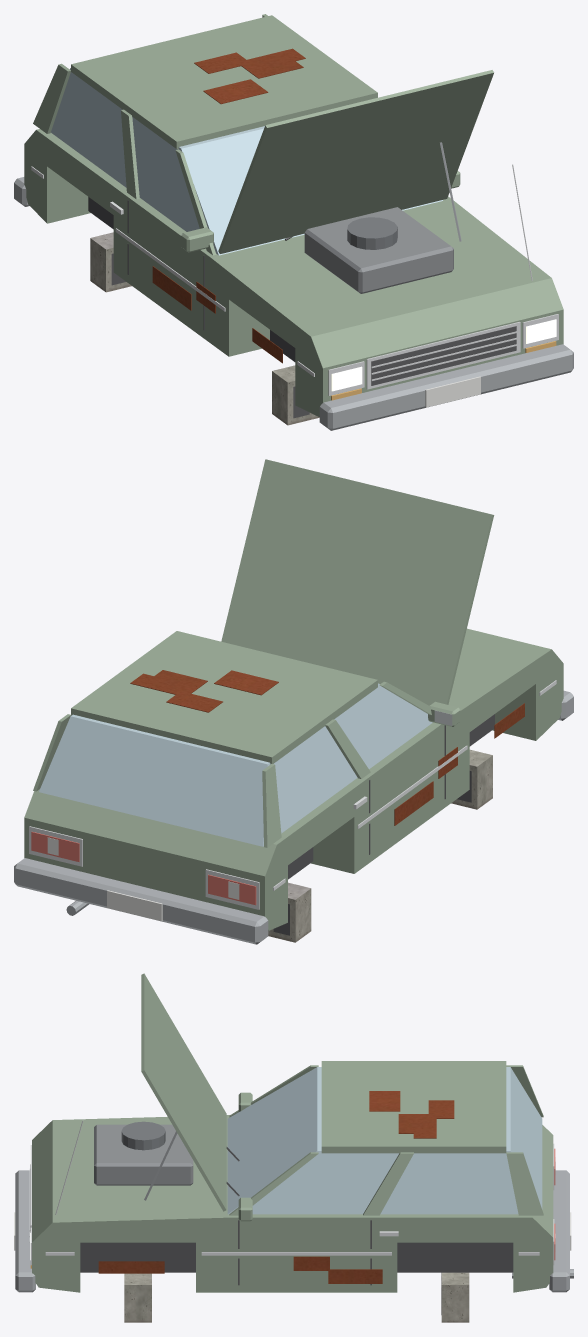
File: junk_hatch_g.glb
3 views of the same model, one above another, from view 1: azimuth 30°, elevation 25°; view 2: azimuth 150°, elevation 25°; view 3: azimuth 270°, elevation 25° (orthographic). The views are drawn at different scales.
Visible parts, largest first — view 1: junk_hatch_g_car_g, junk_hatch_g_glass, junk_hatch_g_steel, junk_hatch_g_engine, junk_hatch_g_chrome, junk_hatch_g_rust, junk_hatch_g_dark, junk_hatch_g_block, junk_hatch_g_steel_d, junk_hatch_g_lamp_glass, junk_hatch_g_paint_w, junk_hatch_g_rubber; view 2: junk_hatch_g_car_g, junk_hatch_g_glass, junk_hatch_g_steel, junk_hatch_g_rust, junk_hatch_g_block, junk_hatch_g_chrome, junk_hatch_g_neon_r, junk_hatch_g_paint_w, junk_hatch_g_rubber, junk_hatch_g_dark; view 3: junk_hatch_g_car_g, junk_hatch_g_glass, junk_hatch_g_rubber, junk_hatch_g_engine, junk_hatch_g_rust, junk_hatch_g_steel, junk_hatch_g_block, junk_hatch_g_chrome, junk_hatch_g_steel_d.
Boxes of the visible parts, <box> form: junk_hatch_g_car_g: <box>24,14,563,416</box>; junk_hatch_g_glass: <box>51,68,442,255</box>; junk_hatch_g_steel: <box>14,142,573,430</box>; junk_hatch_g_engine: <box>304,207,453,293</box>; junk_hatch_g_chrome: <box>31,164,558,395</box>; junk_hatch_g_rust: <box>152,48,305,363</box>; junk_hatch_g_dark: <box>111,200,516,418</box>; junk_hatch_g_block: <box>90,232,319,425</box>; junk_hatch_g_steel_d: <box>347,217,397,249</box>; junk_hatch_g_lamp_glass: <box>331,319,556,391</box>; junk_hatch_g_paint_w: <box>425,376,480,407</box>; junk_hatch_g_rubber: <box>88,197,295,361</box>; junk_hatch_g_car_g: <box>24,459,563,930</box>; junk_hatch_g_glass: <box>39,683,432,846</box>; junk_hatch_g_steel: <box>14,690,573,944</box>; junk_hatch_g_rust: <box>130,670,524,825</box>; junk_hatch_g_block: <box>268,749,492,942</box>; junk_hatch_g_chrome: <box>29,680,556,909</box>; junk_hatch_g_neon_r: <box>31,831,256,905</box>; junk_hatch_g_paint_w: <box>47,837,239,921</box>; junk_hatch_g_rubber: <box>288,714,494,879</box>; junk_hatch_g_dark: <box>273,725,471,935</box>; junk_hatch_g_car_g: <box>32,973,553,1292</box>; junk_hatch_g_glass: <box>227,1067,542,1214</box>; junk_hatch_g_rubber: <box>80,1242,513,1272</box>; junk_hatch_g_engine: <box>94,1124,193,1185</box>; junk_hatch_g_rust: <box>98,1091,454,1283</box>; junk_hatch_g_steel: <box>15,1131,573,1292</box>; junk_hatch_g_block: <box>124,1272,469,1322</box>; junk_hatch_g_chrome: <box>29,1120,554,1265</box>; junk_hatch_g_steel_d: <box>121,1121,165,1150</box>.
Size of the model in its own units: 2 by 2.06 by 4.06.
16 materials, 2 textured.
